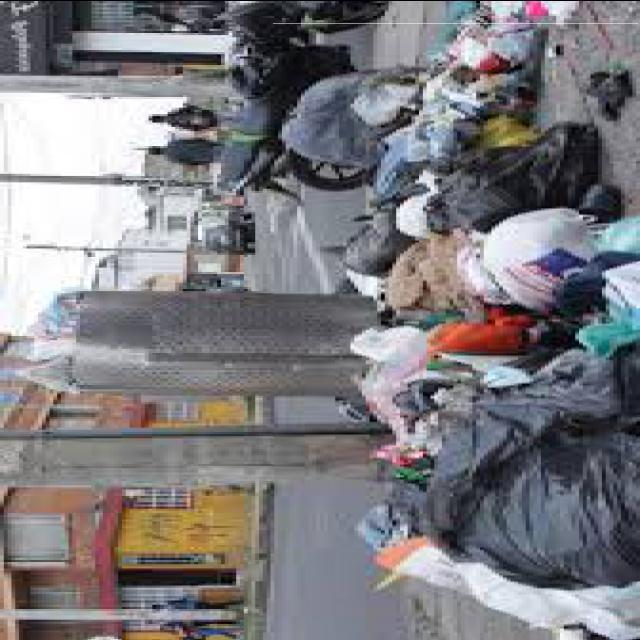Trashbag: (429, 417, 640, 588), (440, 150, 621, 208), (324, 224, 404, 275)
